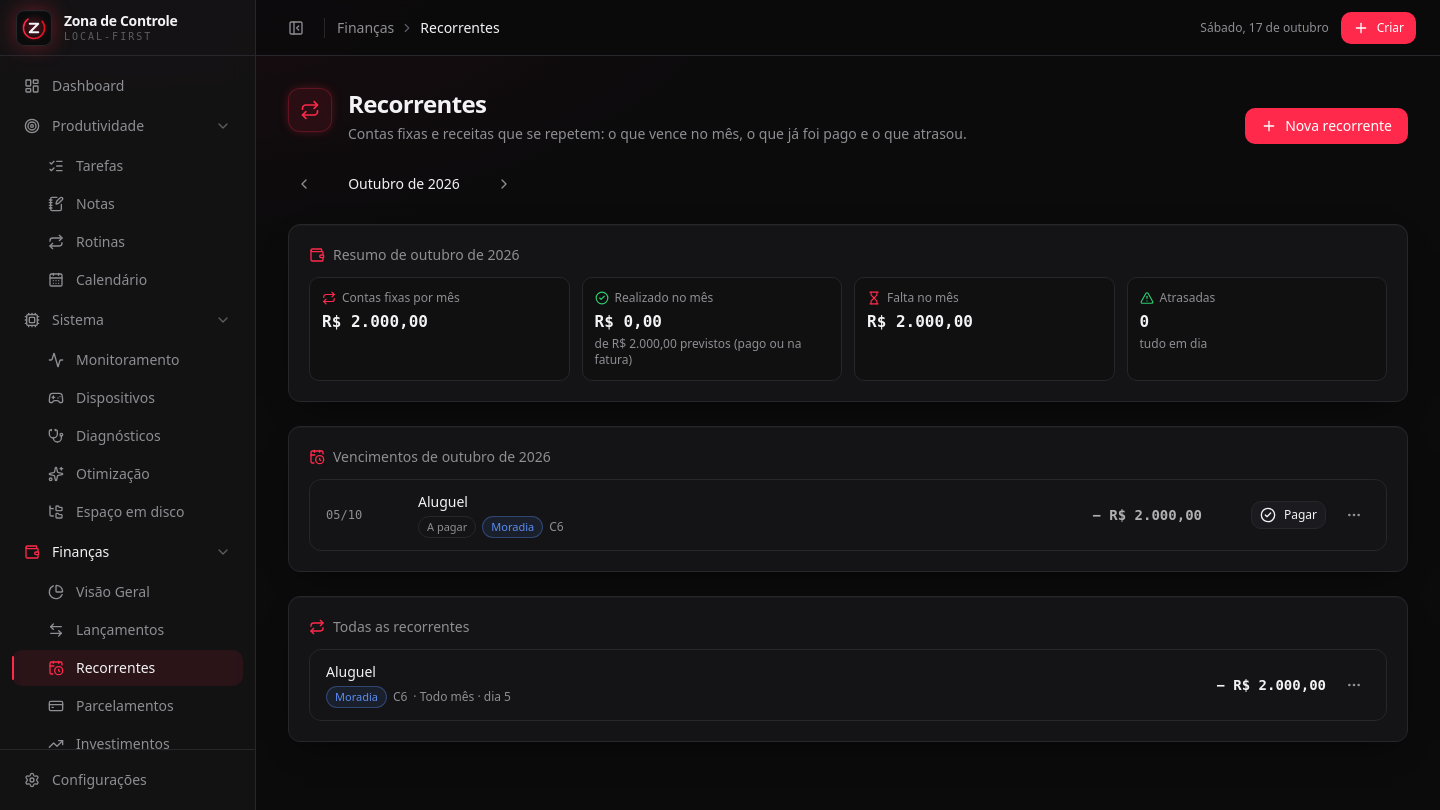
Test case: página de Recorrentes › mostra o resumo e registra um vencimento como pago
Expected: the text "A pagar" is shown, [418,516,476,538]
Expected: the element showing "R$ 2.000,00" below "Contas fixas por mês" is shown, [322,312,428,331]
Click the button with aria-label "Pagar “Aluguel”" at point(1288, 515), box [1251,501,1326,529]
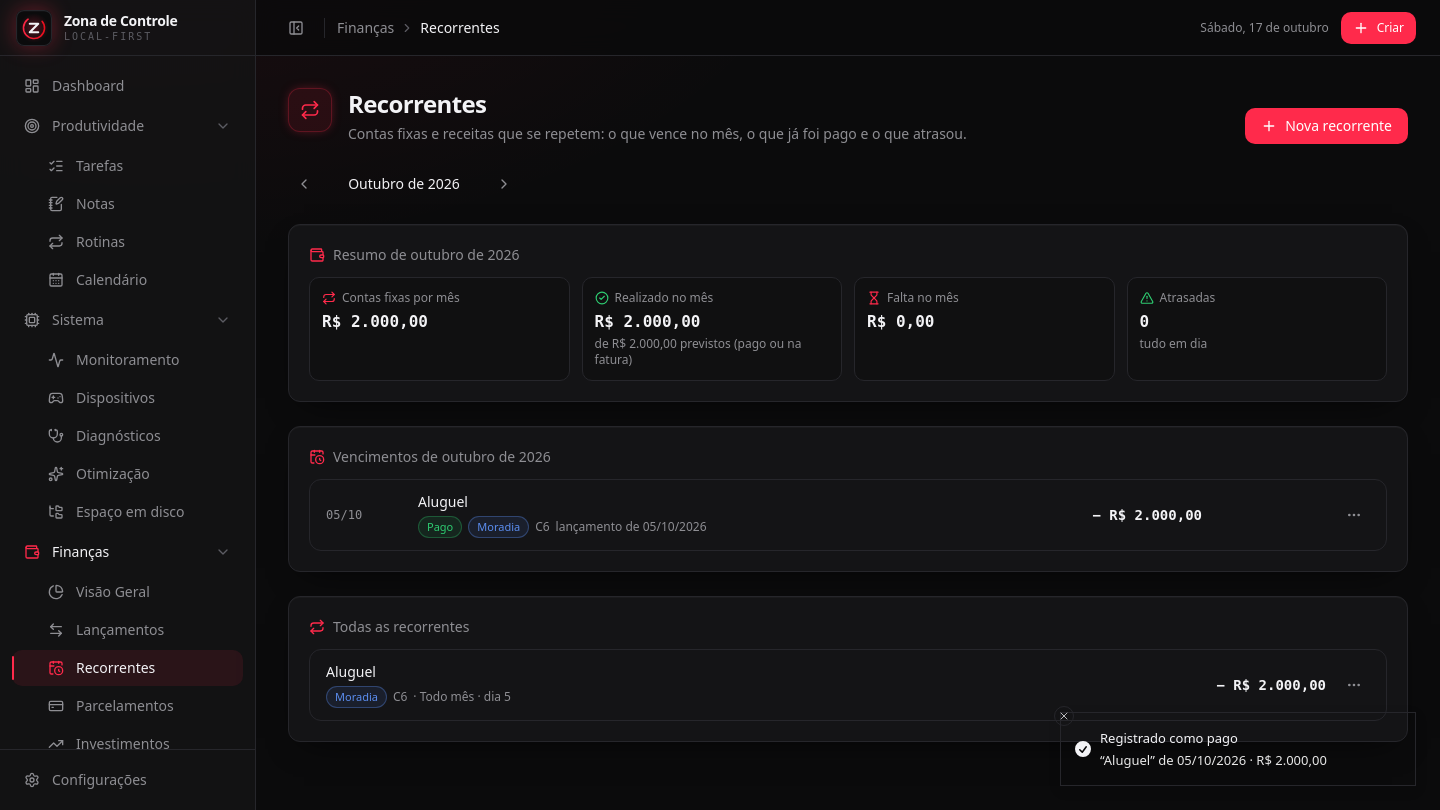
Now the text "Pago" is shown, box [418,516,462,538]
